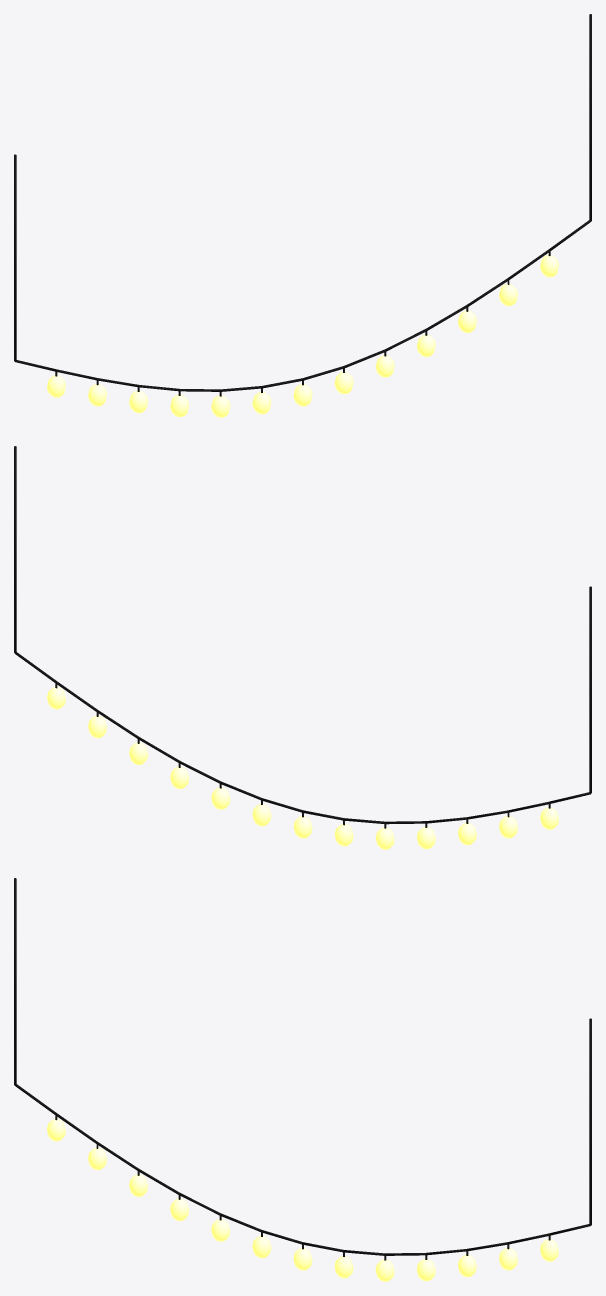
File: strings.glb
3 views of the same model, one above another, from view 1: azimuth 30°, elevation 25°; view 2: azimuth 150°, elevation 25°; view 3: azimuth 330°, elevation 25° (orthographic).
Visible parts, largest first — view 1: hanger, hanger.001; view 2: hanger, hanger.001; view 3: hanger.001, hanger.
Part boxes in pixels (<box>): hanger: <box>14,154,16,361</box>; hanger.001: <box>589,14,591,220</box>; hanger: <box>589,586,591,793</box>; hanger.001: <box>14,446,16,652</box>; hanger.001: <box>589,1018,591,1225</box>; hanger: <box>14,878,16,1084</box>.
Size of the model in its own units: 1.91 by 1.01 by 0.056.
